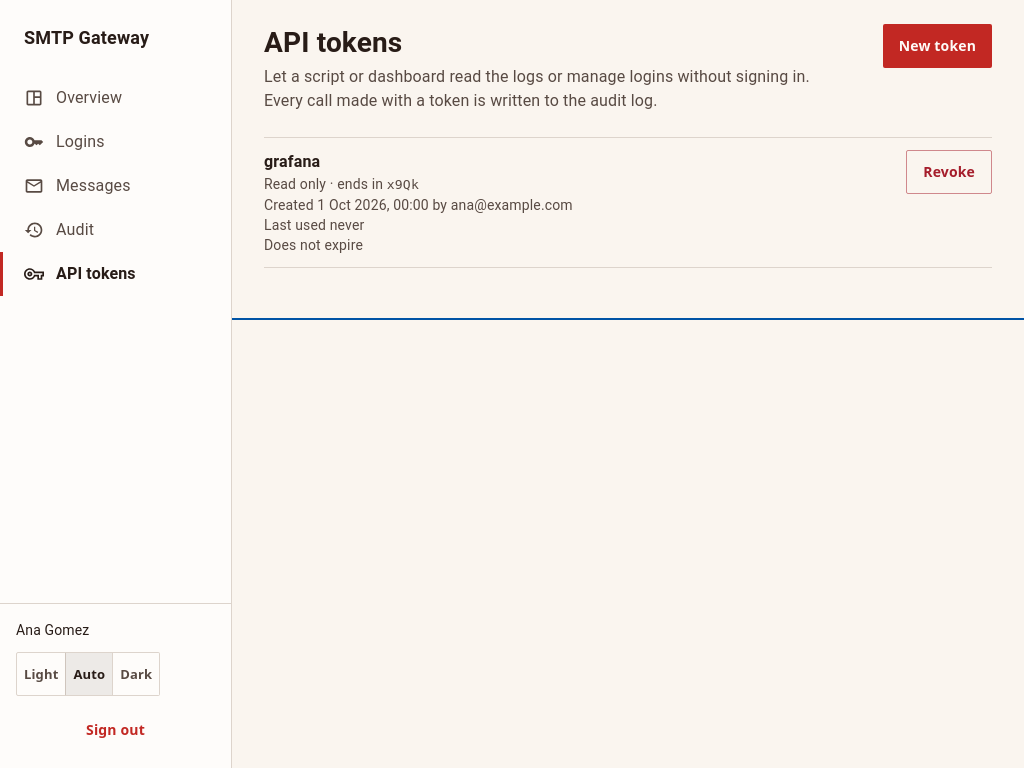
Scenario: Tokens › asks before revoking
Click the button "Revoke": [949, 172] box [906, 150, 992, 194]
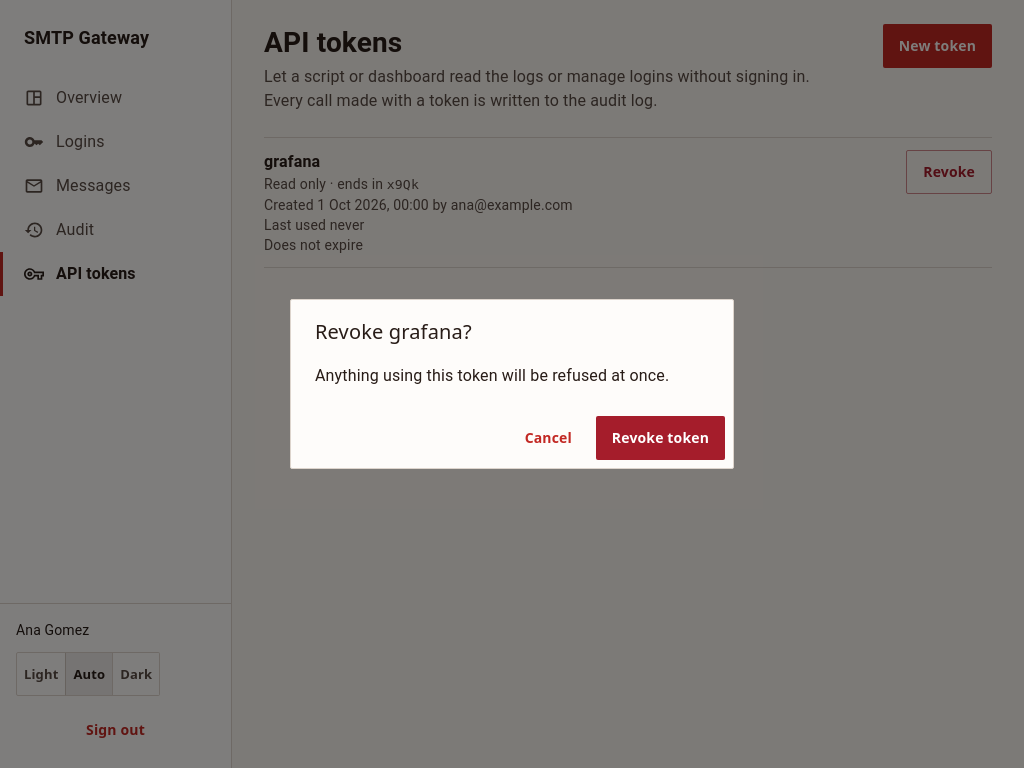
Check: the heading "Revoke grafana?" is shown, box [315, 318, 472, 345]
Click the button "Revoke token": [660, 438] box [596, 416, 725, 460]
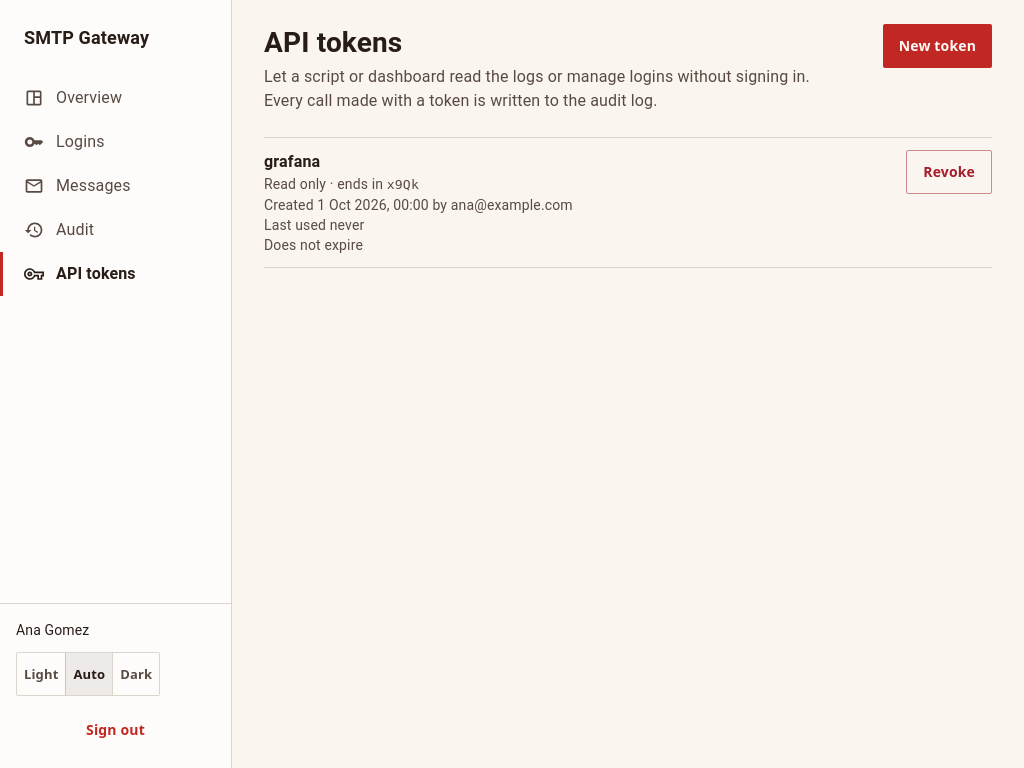
Check: the heading "Revoke grafana?" is gone
